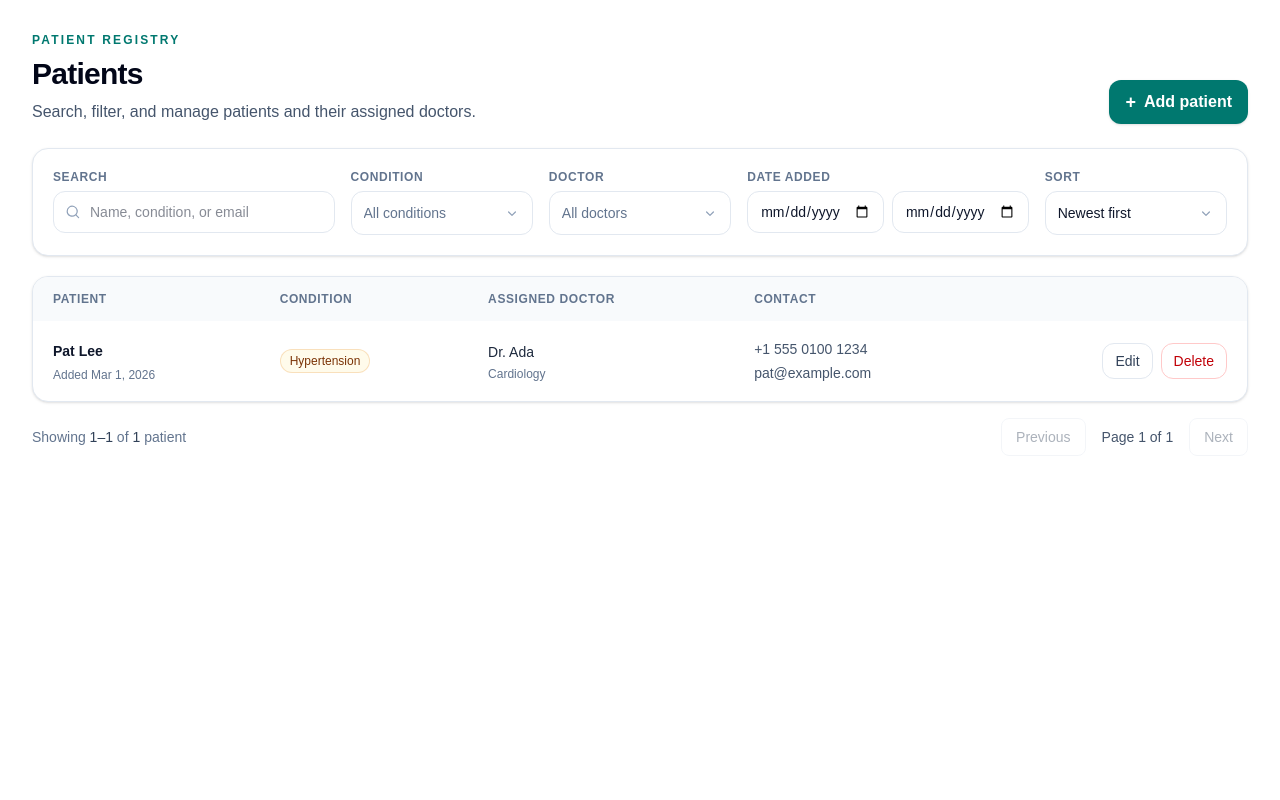
PatientsManager create, edit, delete › validates required fields including the assigned doctor
Click the button "+ Add patient".
click(1179, 102)  # box [1110,80,1248,124]
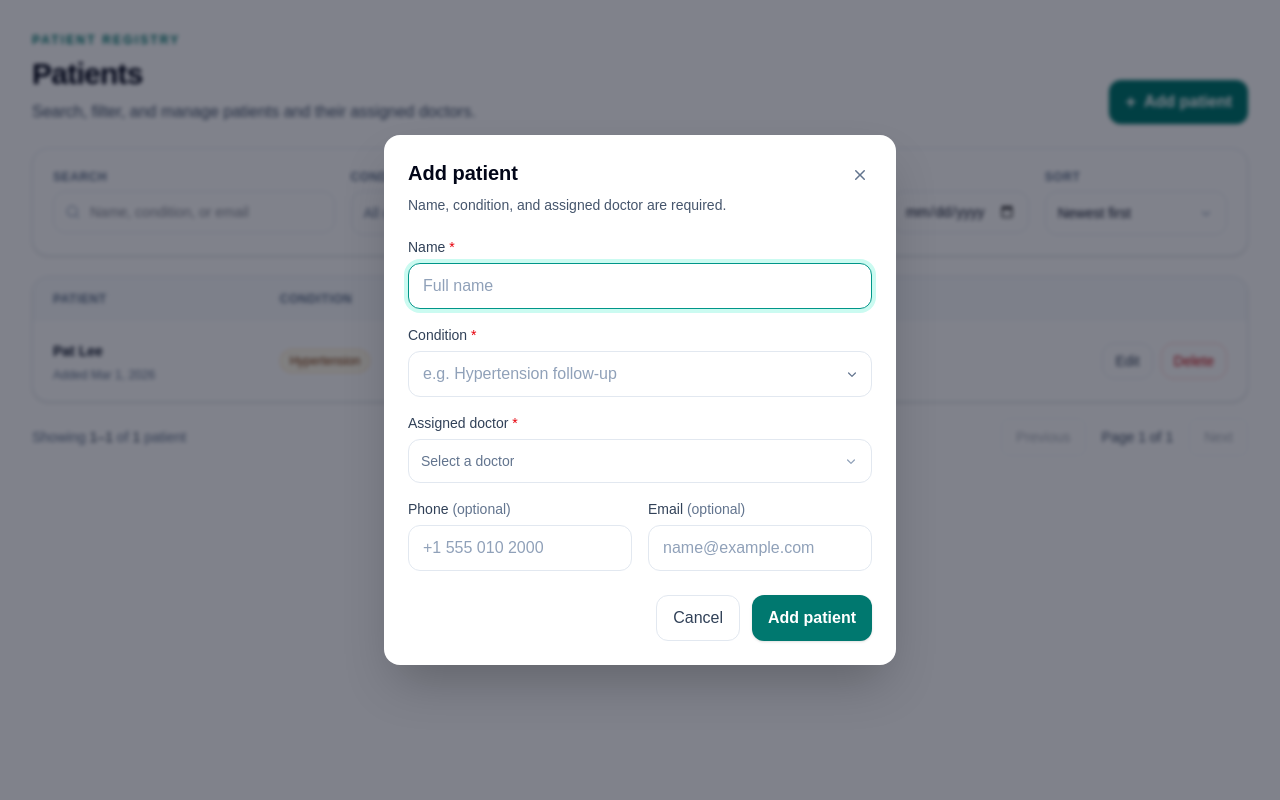
Click the button "Add patient".
click(812, 618)  # box [752,595,872,641]
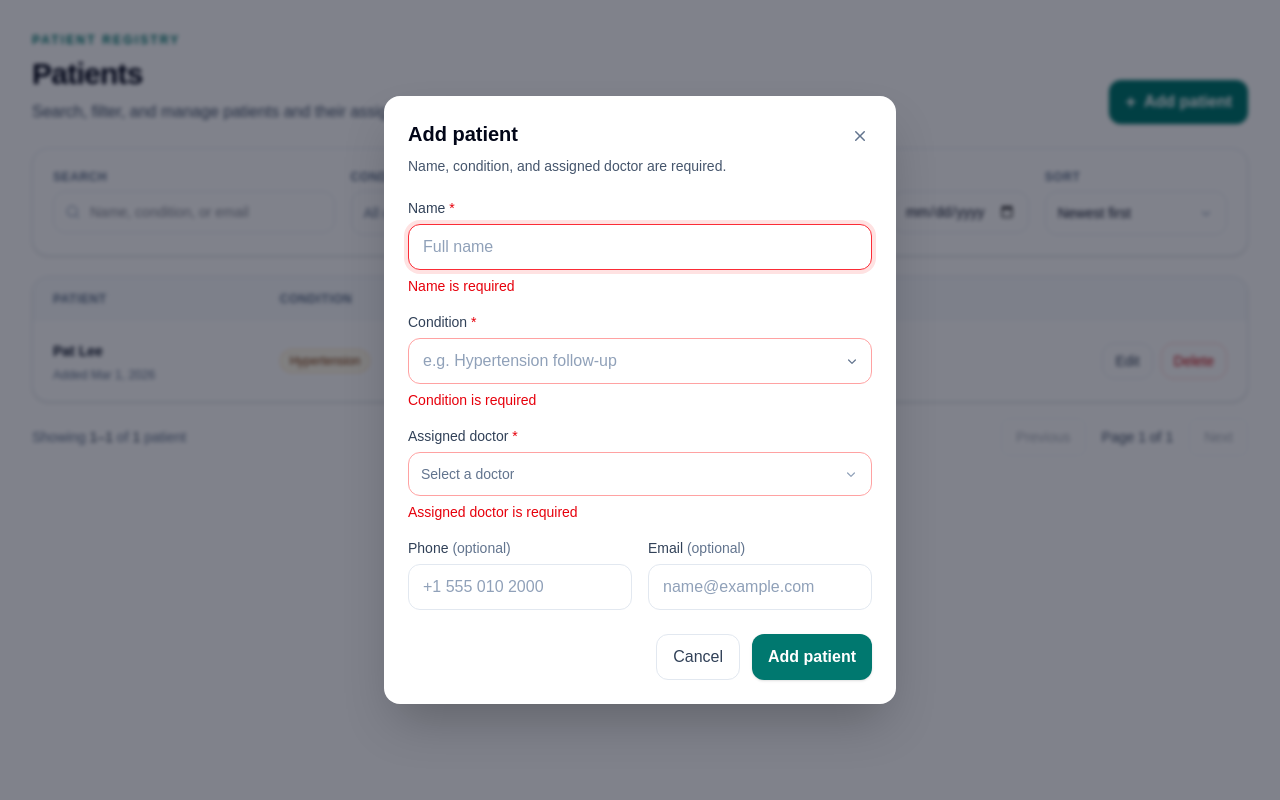
Expected: the text "Name is required" is shown, [408,278,515,294]
Expected: the text "Condition is required" is shown, [408,392,536,408]
Expected: the text "Assigned doctor is required" is shown, [408,504,578,520]
Type "New Patient" into the field labelled "Name".
click(640, 247); type("New Patient")  # box [408,224,872,270]
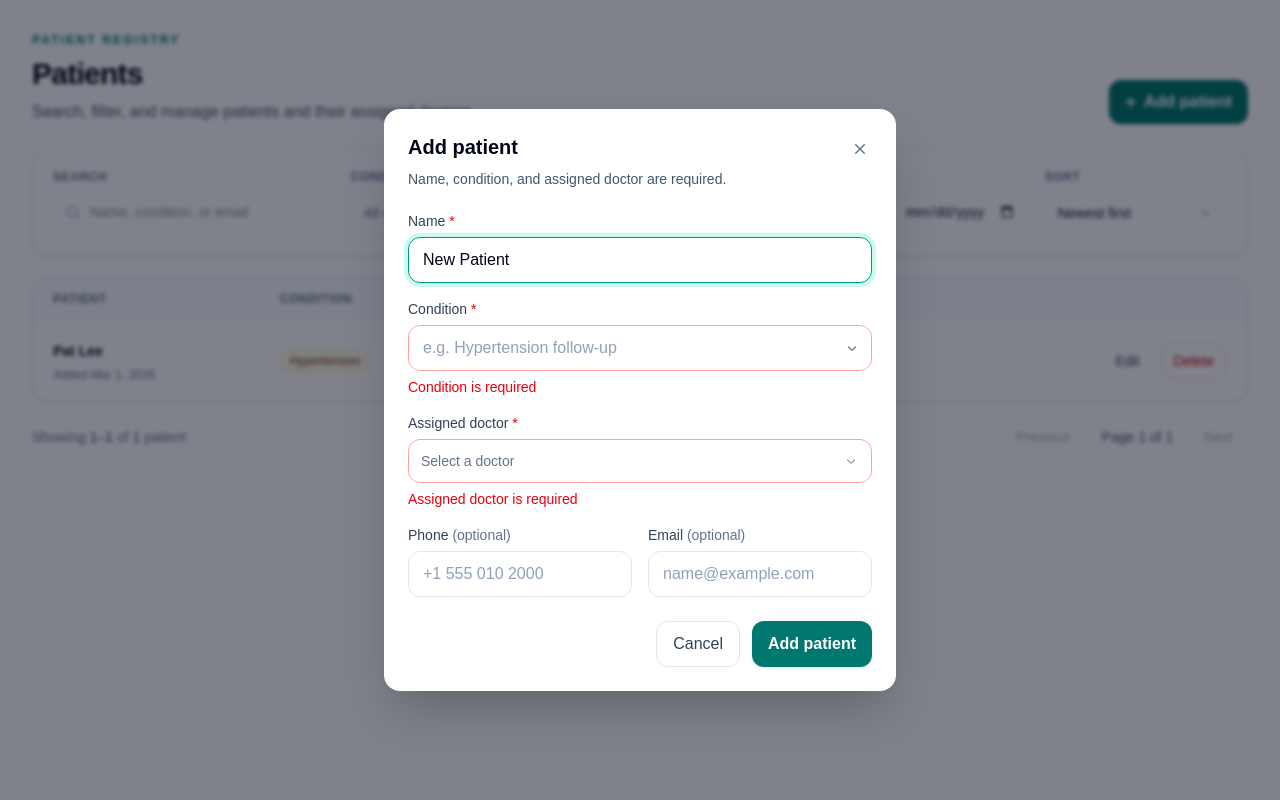
Type "Asthma" into the dropdown labelled "Condition".
click(640, 348); type("Asthma")  # box [408,325,872,371]
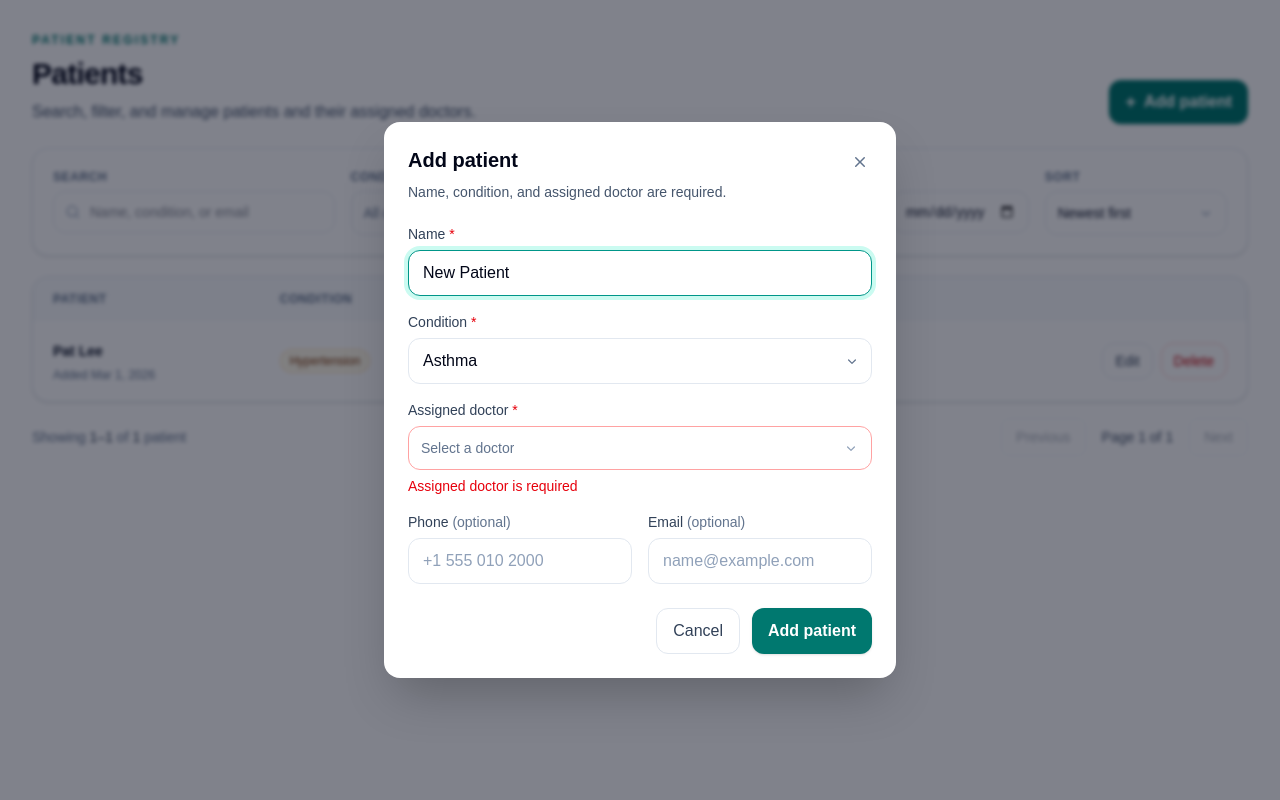
Type "bad" into the field labelled "Email".
click(760, 561); type("bad")  # box [648,538,872,584]
Type "12" into the field labelled "Phone".
click(520, 561); type("12")  # box [408,538,632,584]
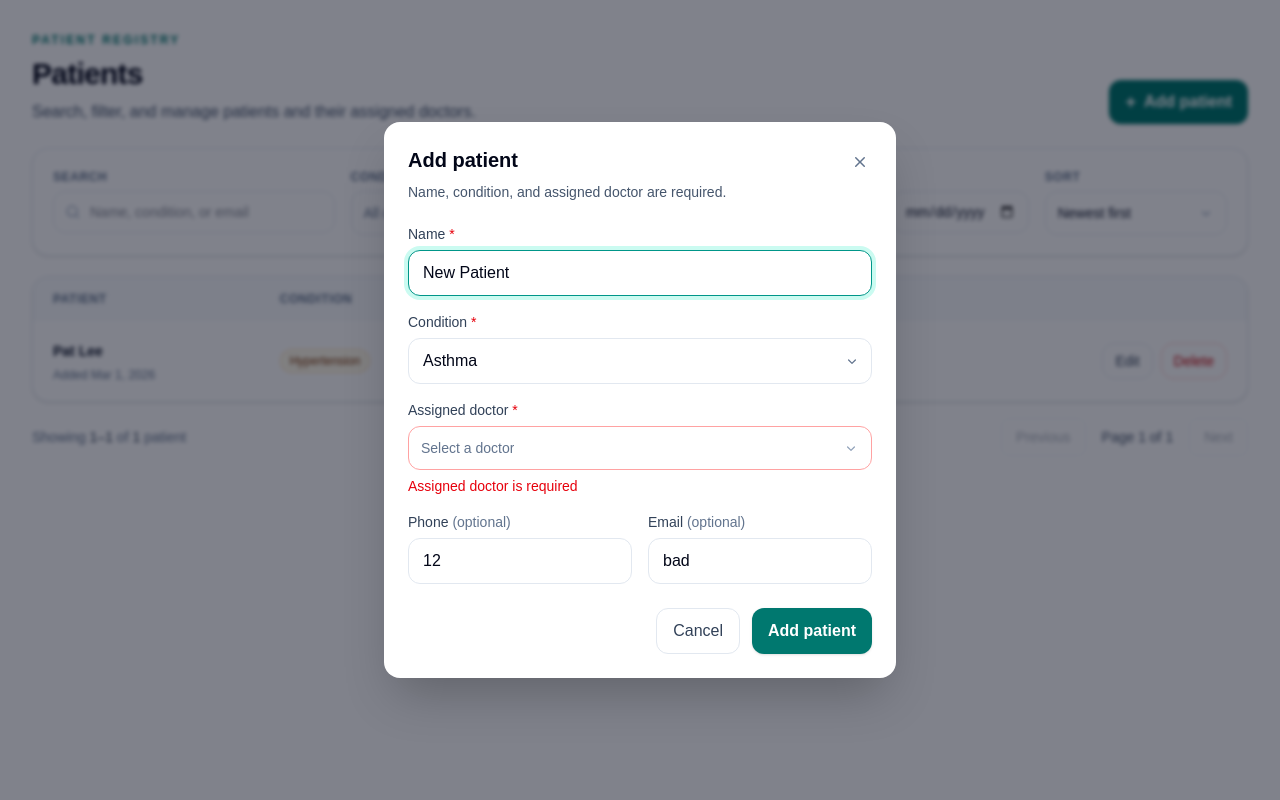
Click the button "Add patient".
click(812, 631)  # box [752,608,872,654]
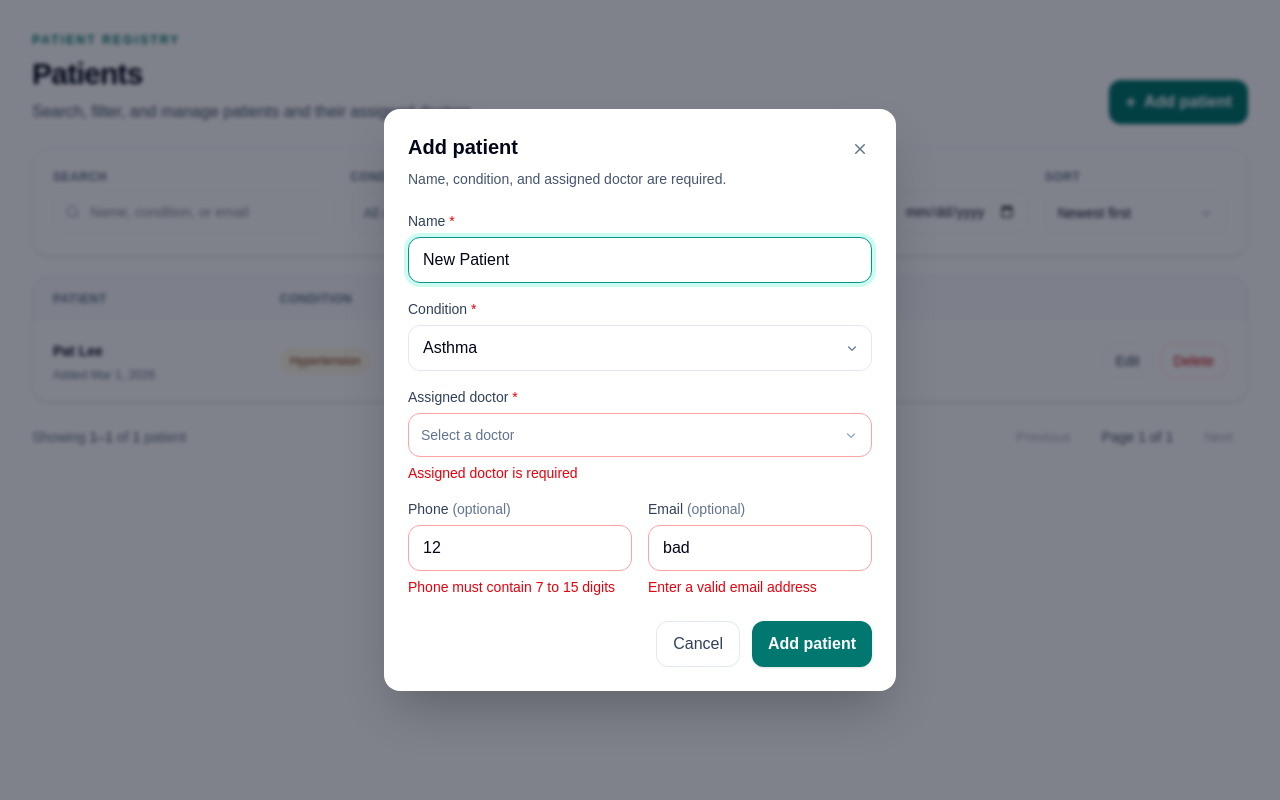
Expected: the text "Enter a valid email address" is shown, [648,579,817,595]
Expected: the text "Phone must contain 7 to 15 digits" is shown, [408,577,632,597]
